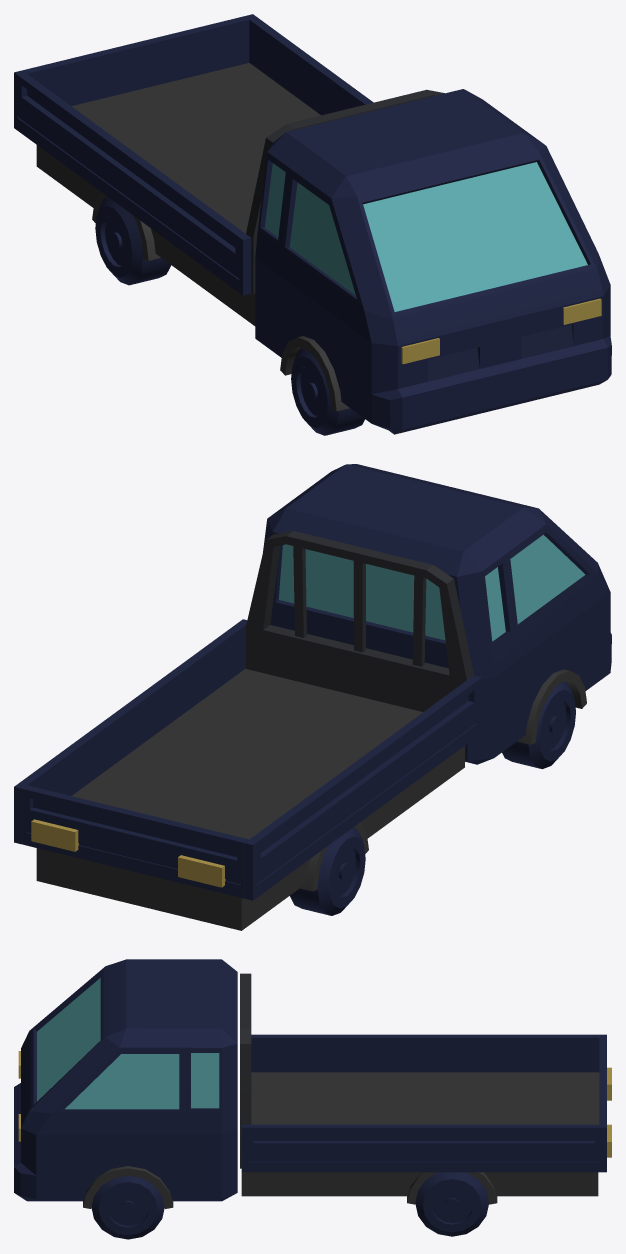
Rendered from obj_truck.fbx.
The picture shows the model from 3 angles, top to bottom: view 1: azimuth 30°, elevation 25°; view 2: azimuth 150°, elevation 25°; view 3: azimuth 270°, elevation 25°; orthographic projection. The views are drawn at different scales.
Parts seen in each view (by area): view 1: fbx_Truck; view 2: fbx_Truck; view 3: fbx_Truck.
Part boxes in pixels (x1,y1,x2,y2): fbx_Truck: [14, 14, 611, 435]; fbx_Truck: [14, 464, 611, 930]; fbx_Truck: [14, 959, 611, 1239].
Bounding box in the file's own units: 3.35 × 3.2 × 8.67.
